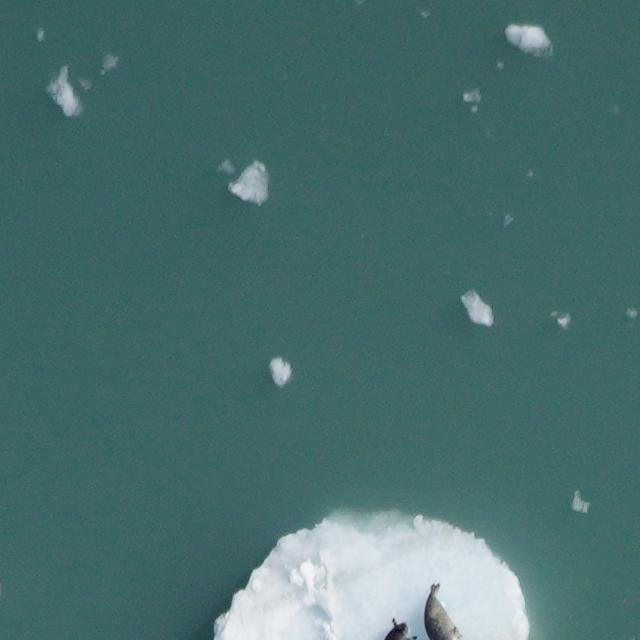seal: (420, 578, 468, 640), (379, 614, 423, 640)
